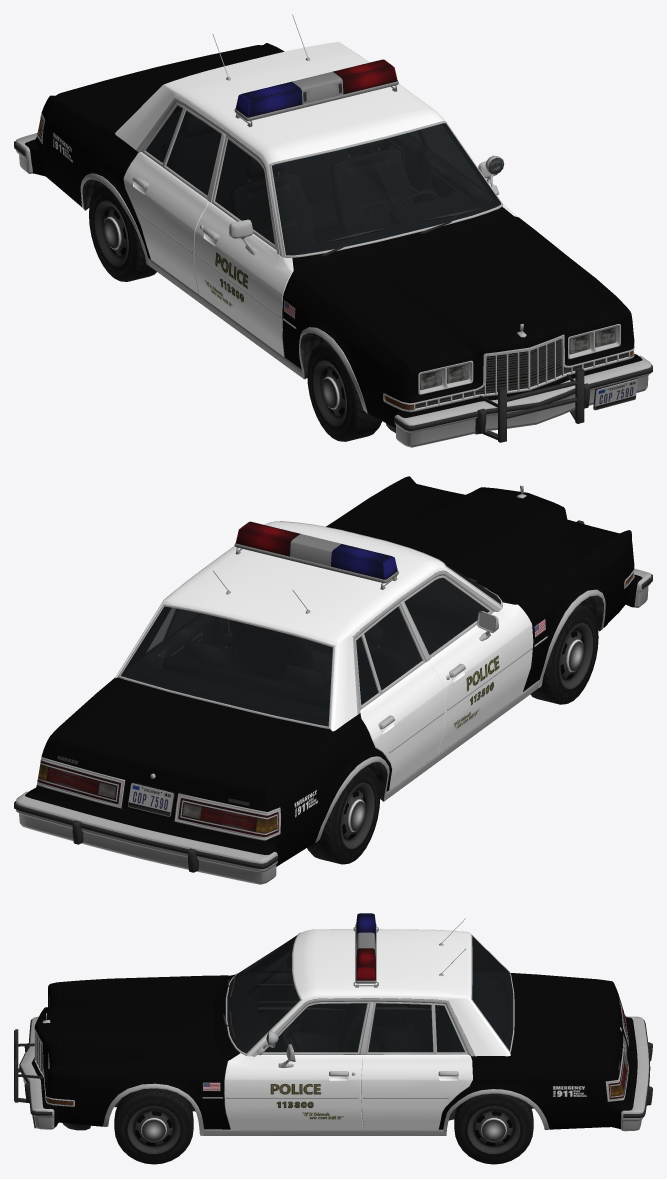
Rendered from negotiator-80-cop-cruiser-low-poly-model-945fd0.glb.
3 renders of one model, top to bottom at view 1: azimuth 30°, elevation 25°; view 2: azimuth 150°, elevation 25°; view 3: azimuth 270°, elevation 25°, orthographic. The views are drawn at different scales.
Parts seen in each view (by area): view 1: body, wheel-front-right, wheel-back-right; view 2: body, wheel-back-right, wheel-front-right, wheel-back-left; view 3: body, wheel-front-left, wheel-back-left.
Part boxes in pixels (x1,y1,x2,y2): body: [14, 14, 652, 447]; wheel-front-right: [307, 341, 382, 441]; wheel-back-right: [89, 183, 156, 281]; body: [14, 476, 652, 884]; wheel-back-right: [201, 766, 380, 864]; wheel-front-right: [530, 604, 598, 704]; wheel-back-left: [47, 767, 98, 794]; body: [14, 913, 652, 1135]; wheel-front-left: [114, 1088, 193, 1164]; wheel-back-left: [454, 1064, 626, 1164].
Size of the model in its own units: 1.87 by 1.6 by 4.98.
Materials: 8 (8 with a texture image).
